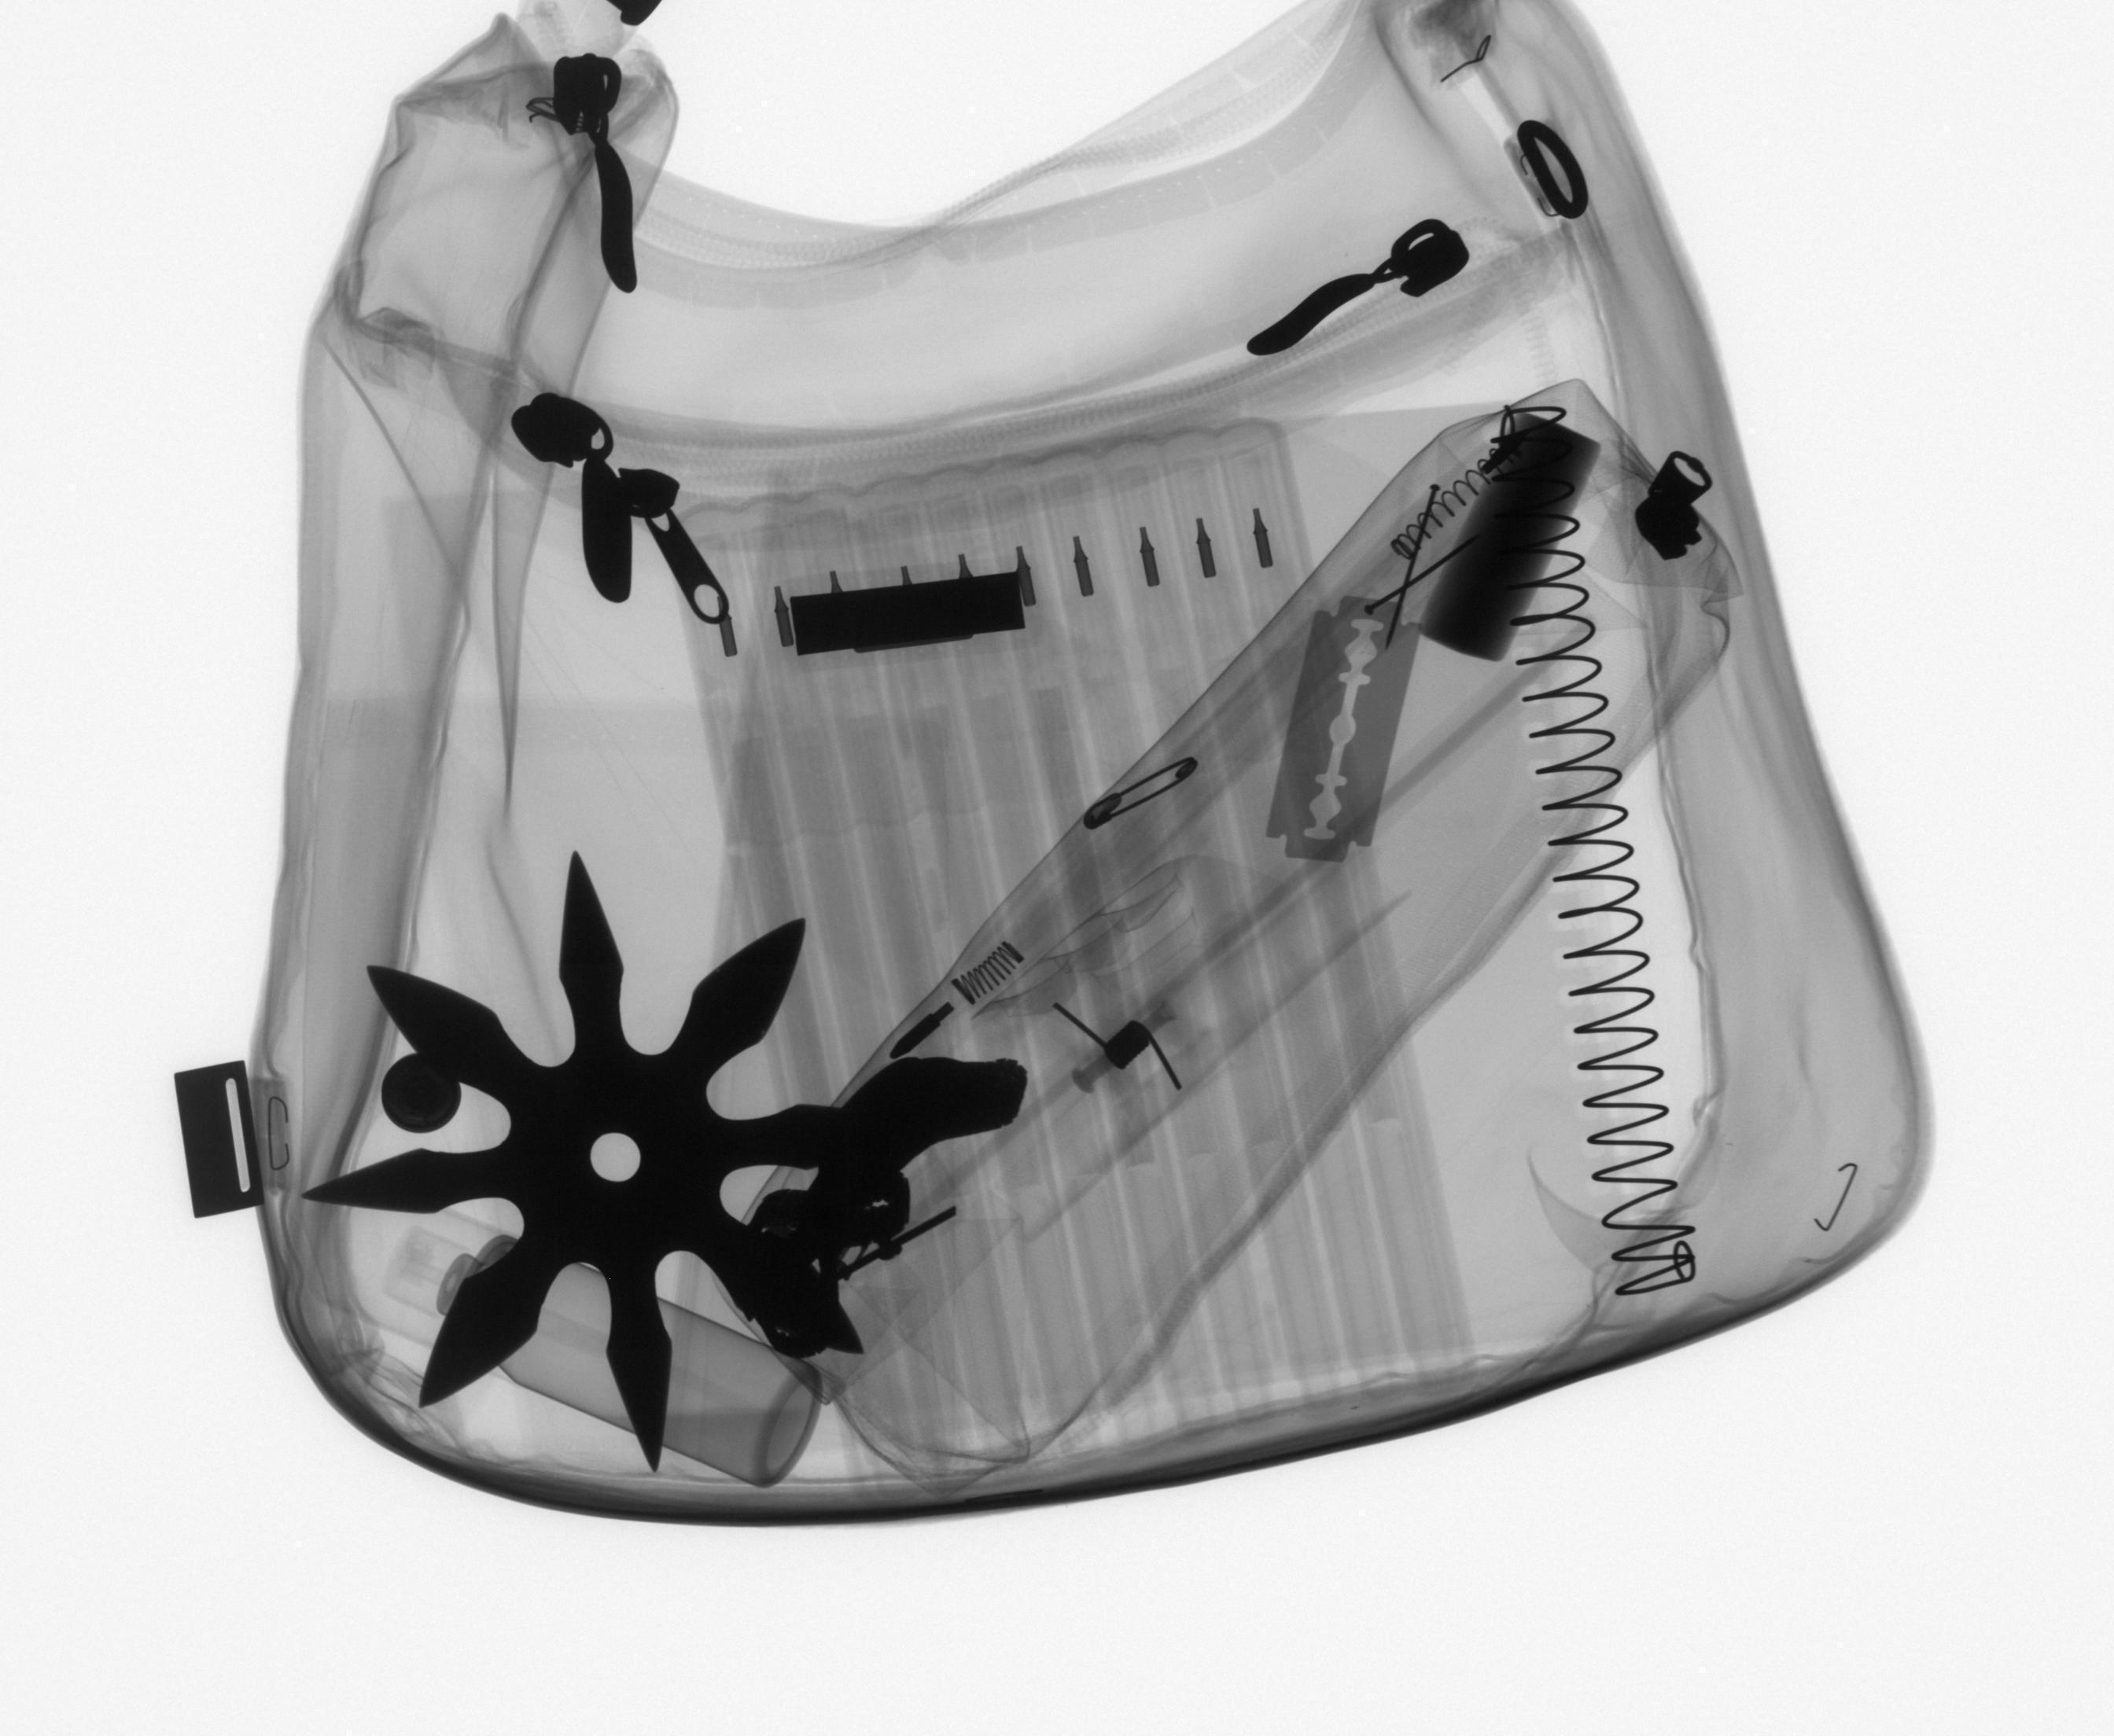RazorBlade: (1257, 585, 1427, 871)
Shuriken: (290, 839, 922, 1487)
